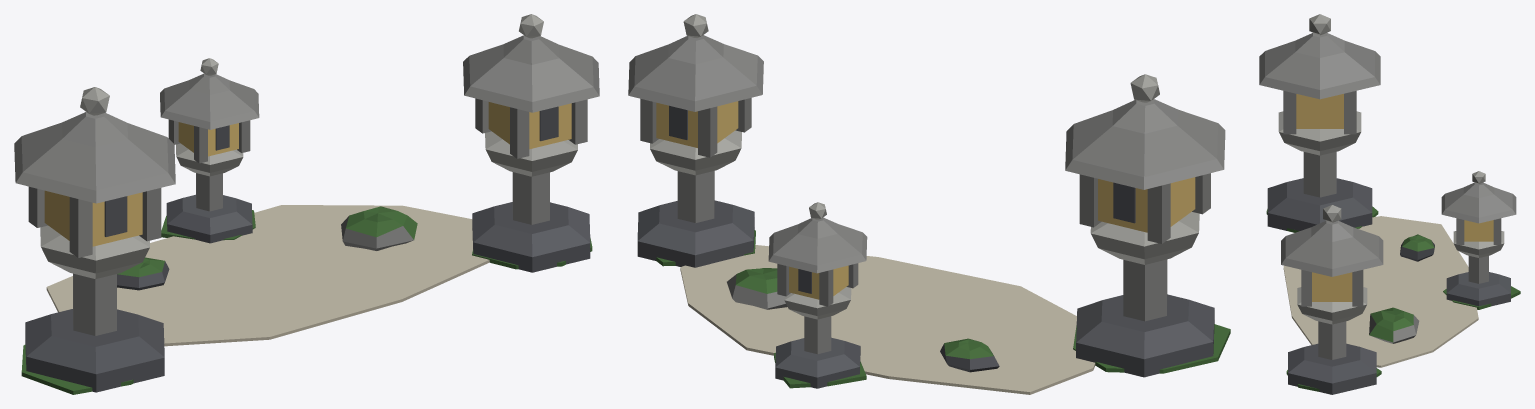
The model's file is Decor_SamuraiShrine_Lanterns.fbx.
3 renders of one model, left to right at view 1: azimuth 30°, elevation 25°; view 2: azimuth 150°, elevation 25°; view 3: azimuth 270°, elevation 25°, orthographic. The views are drawn at different scales.
Visible parts, largest first — view 1: Lanterns_Body; view 2: Lanterns_Body; view 3: Lanterns_Body.
Part boxes in pixels (x1=…): Lanterns_Body: x1=14, y1=14, x2=599, y2=394; Lanterns_Body: x1=628, y1=14, x2=1230, y2=394; Lanterns_Body: x1=1259, y1=14, x2=1520, y2=394.
Bounding box in the file's own units: 21.04 × 9.23 × 10.91.
